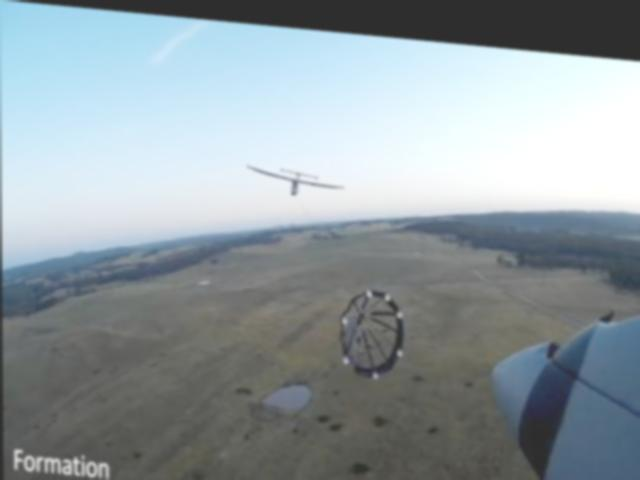uav: (247, 155, 350, 204)
